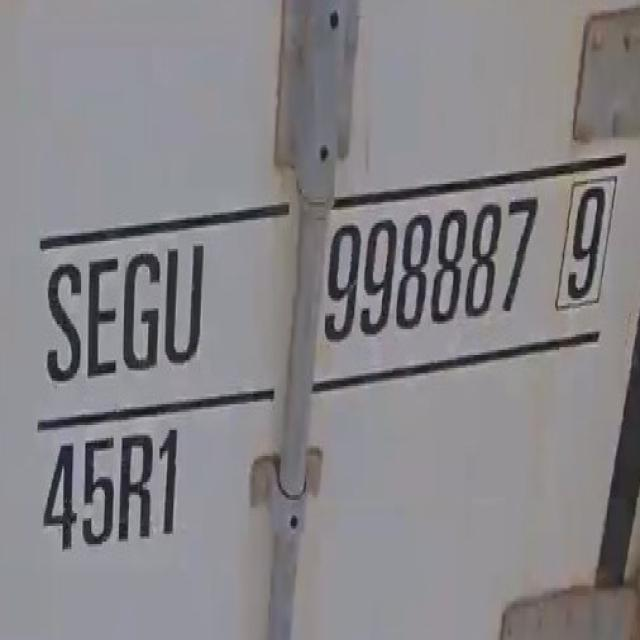dv: (555, 174, 615, 310)
owner: (36, 231, 214, 392)
serial: (315, 192, 541, 352)
size: (37, 421, 192, 572)
